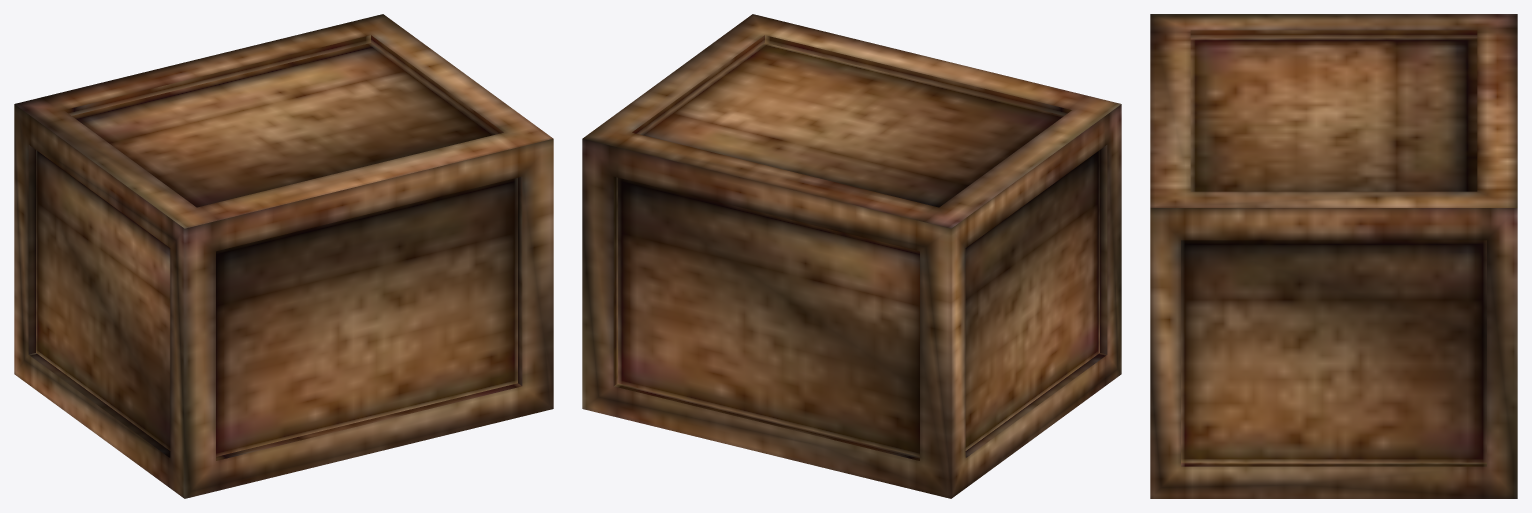
The model's file is psx_industrial_pack_crate_wood2.glb.
The picture shows the model from 3 angles, left to right: view 1: azimuth 30°, elevation 25°; view 2: azimuth 150°, elevation 25°; view 3: azimuth 270°, elevation 25°; orthographic projection. The views are drawn at different scales.
Parts seen in each view (by area): view 1: CrateWood2; view 2: CrateWood2; view 3: CrateWood2.
Part boxes in pixels (<box>): CrateWood2: <box>14,14,553,498</box>; CrateWood2: <box>582,14,1121,498</box>; CrateWood2: <box>1150,14,1517,498</box>.
Size of the model in its own units: 1 by 0.7 by 0.8.
1 material, 1 textured.
